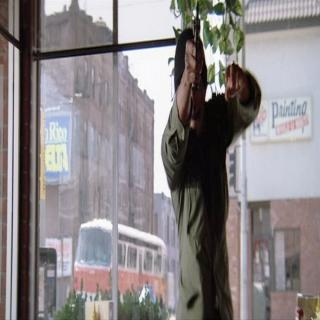gun: (186, 0, 208, 82)
